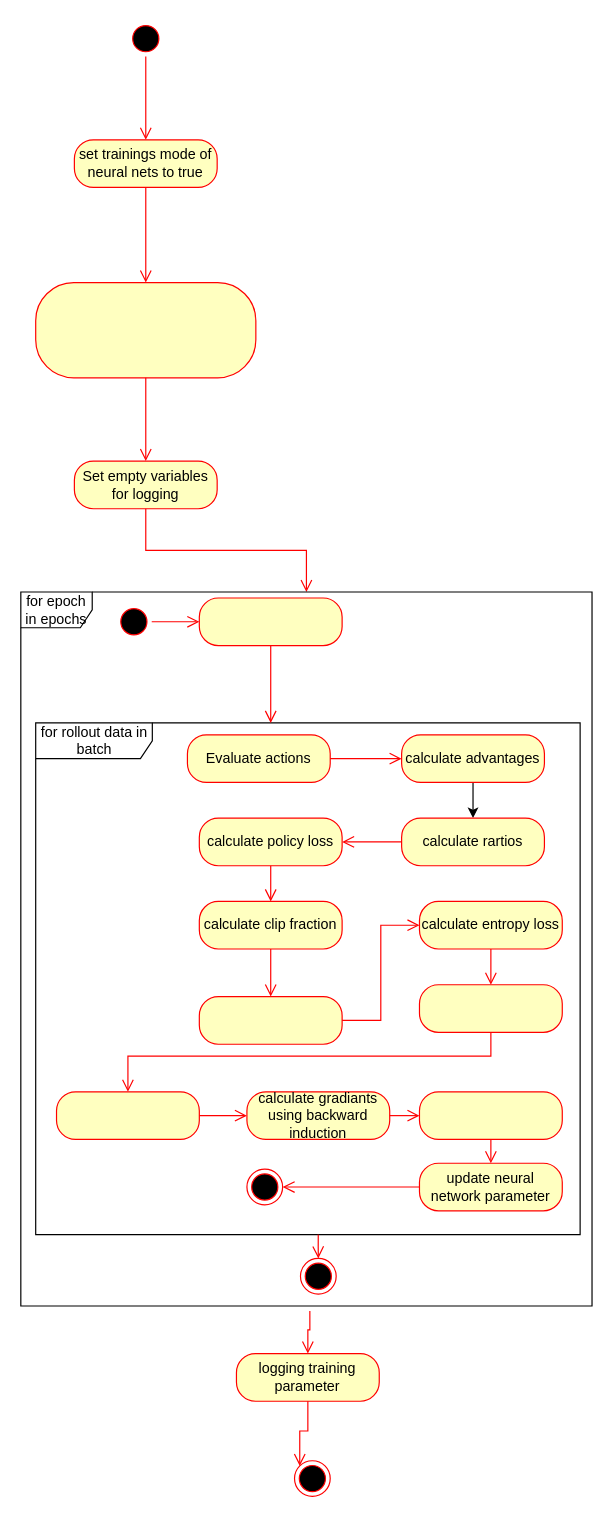
The diagram is 613 pixels wide and 1517 high, and some of its shapes have lost their labels. Each missing label, with the centre of its shape:
"calculate value loss" belongs at point 270,1019.
"clip gradient norm" belongs at point 490,1115.
"get batch from rollout data" belongs at point 270,621.
"get total loss" belongs at point 490,1008.
"set gradients of neural network to zero" belongs at point 127,1115.
"update learning rule parameter like learning rate, step size,..." belongs at point 145,329.
